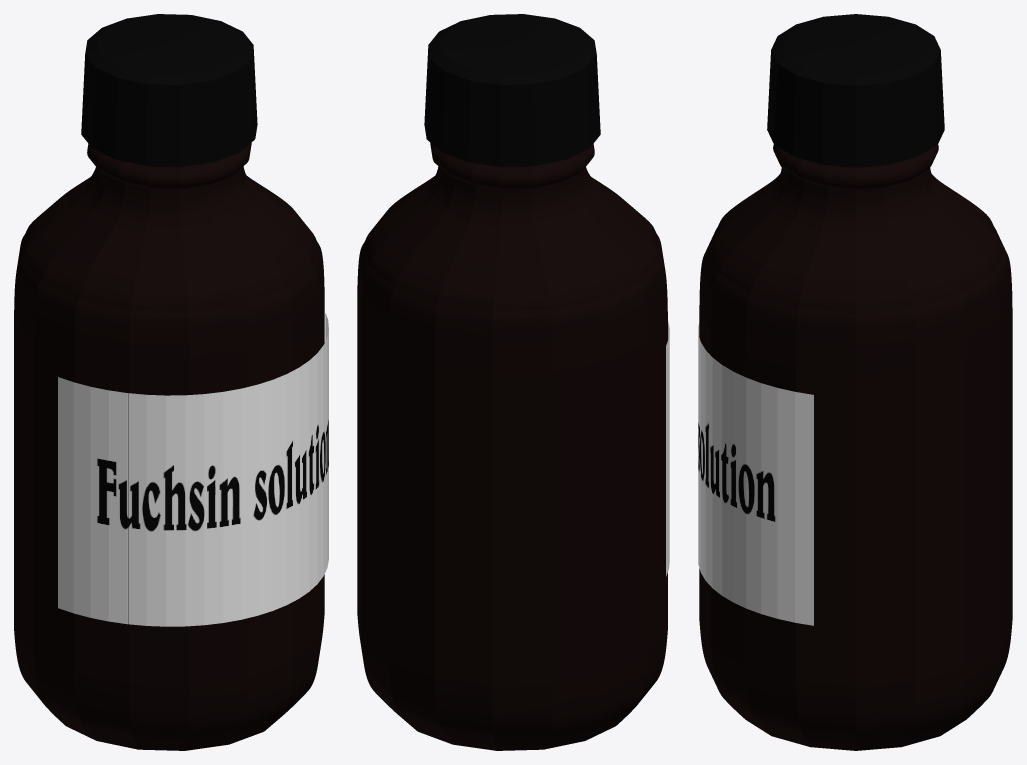
File: Fuchsin solution.dae
The picture shows the model from 3 angles, left to right: view 1: azimuth 30°, elevation 25°; view 2: azimuth 150°, elevation 25°; view 3: azimuth 270°, elevation 25°; orthographic projection.
Parts seen in each view (by area): view 1: Line001, Plane001; view 2: Line001, Plane001; view 3: Line001, Plane001.
Part boxes in pixels (x1,y1,x2,y2): Line001: (14,14,324,750); Plane001: (58,313,328,626); Line001: (357,14,667,750); Plane001: (666,321,669,576); Line001: (699,14,1012,750); Plane001: (698,323,813,625).
Size of the model in its own units: 13.03 by 30.13 by 13.07.
